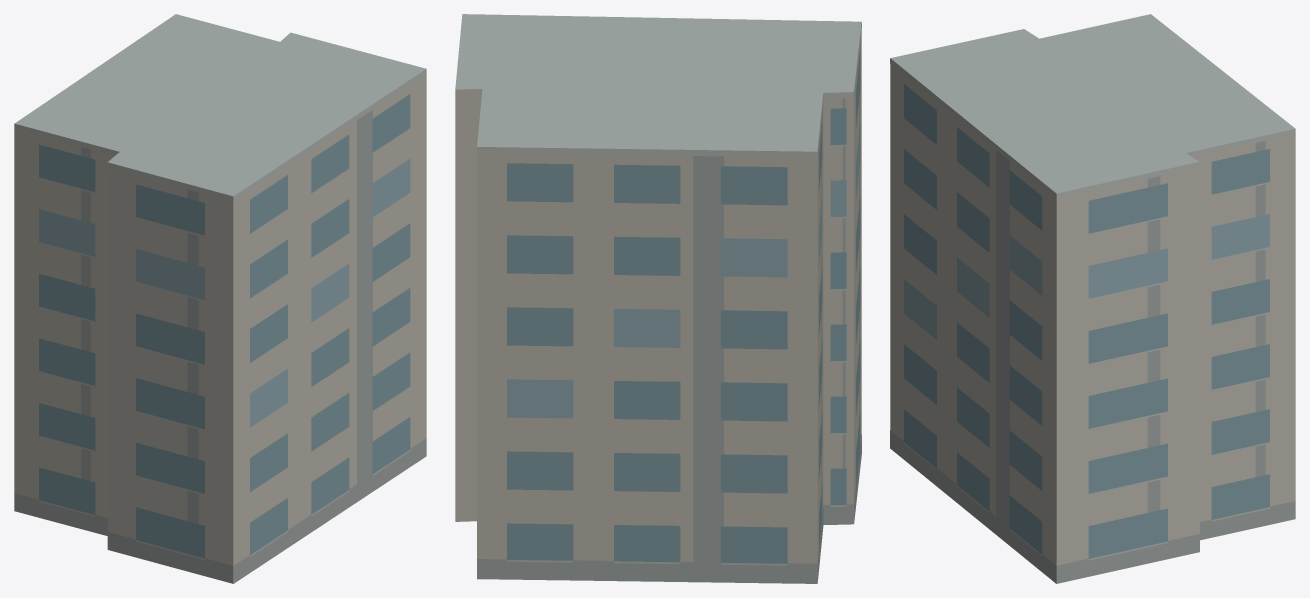
The model's file is survey-upis-32911705.glb.
The picture shows the model from 3 angles, left to right: view 1: azimuth 30°, elevation 25°; view 2: azimuth 150°, elevation 25°; view 3: azimuth 270°, elevation 25°; orthographic projection. The views are drawn at different scales.
Visible parts, largest first — view 1: survey-upis-32911705.tmp; view 2: survey-upis-32911705.tmp; view 3: survey-upis-32911705.tmp.
Boxes of the visible parts, box(x1,y1,x2,y2) form: survey-upis-32911705.tmp: box(14, 14, 426, 583); survey-upis-32911705.tmp: box(455, 14, 861, 583); survey-upis-32911705.tmp: box(890, 14, 1295, 583).
Size of the model in its own units: 17.08 by 17.3 by 16.3.
